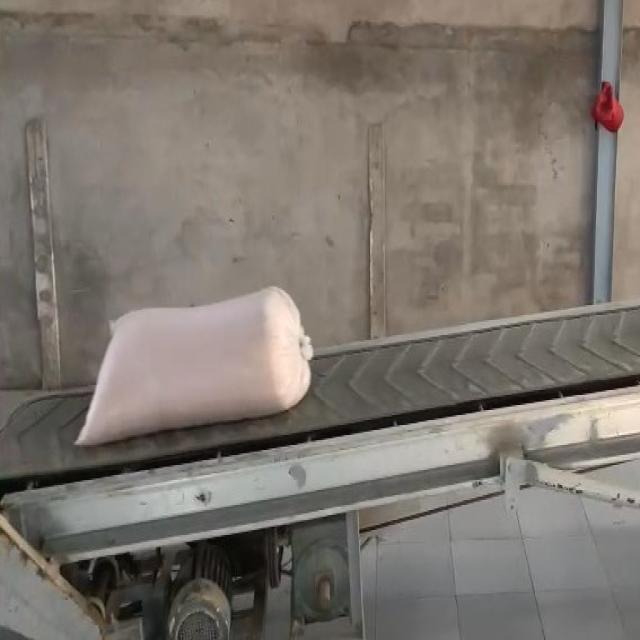gunny_bag: (74, 287, 309, 446)
